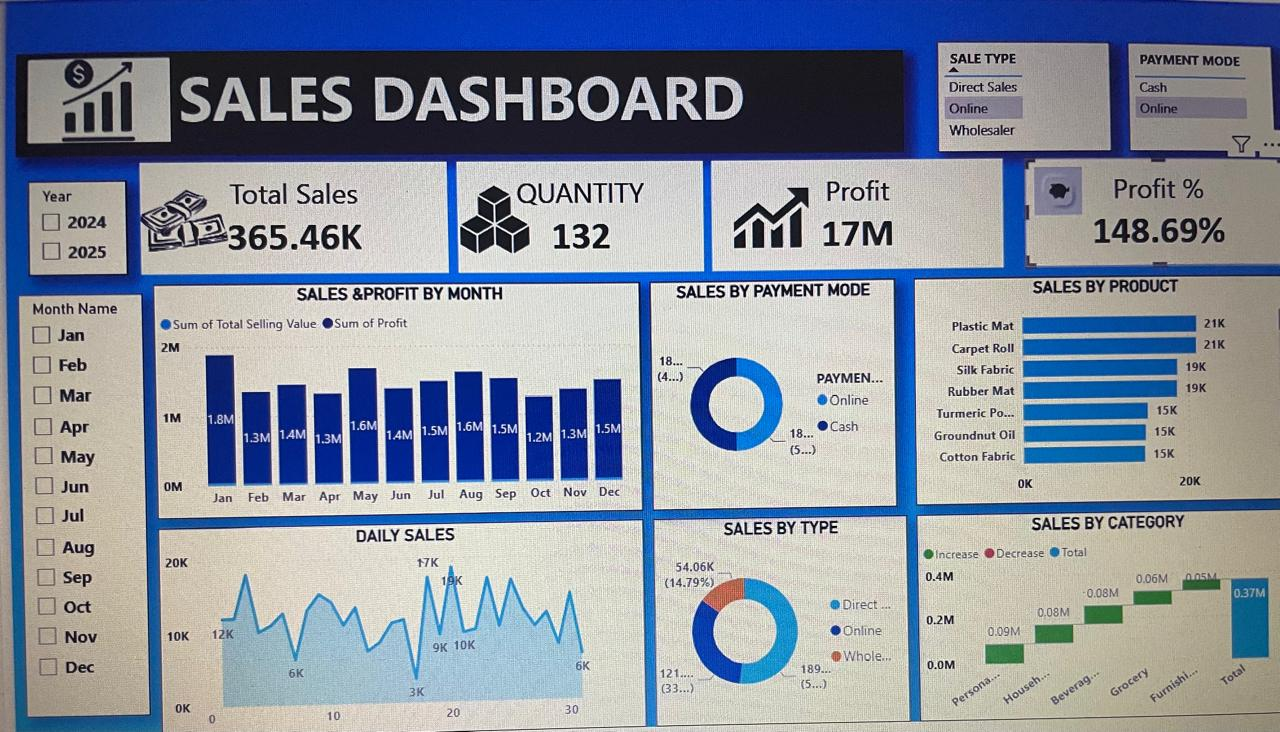

Layout of this report page (visuals, bound fields, positions):
{"tool":"powerbi","page":{"name":"Page 1","canvas":[1280,720],"ordinal":0},"visuals":[{"type":"textbox","box":[9.6,53.5,864.5,100.2],"z":0},{"type":"image","box":[22,59,137.2,81],"z":1000},{"type":"slicer","fields":{"Values":["InputData.Year"]},"box":[22,177,94.7,90.6],"z":2000},{"type":"slicer","fields":{"Values":["InputData.Month Name"]},"box":[11,285.4,118,408.9],"z":3000},{"type":"tableEx","fields":{"Values":["InputData.SALE TYPE"]},"box":[908.4,44.6,174.9,108.6],"z":4000},{"type":"tableEx","fields":{"Values":["InputData.PAYMENT MODE"]},"box":[1101.5,44.6,153.2,108.6],"z":5000},{"type":"cardVisual","fields":{"Data":["Sum(InputData.Total Selling Value)"]},"box":[129.1,160.5,294.4,107.4],"z":6000},{"type":"cardVisual","fields":{"Data":["Sum(InputData.QUANTITY)"]},"box":[433.1,160.5,241.3,107.4],"z":7000},{"type":"cardVisual","fields":{"Data":["Sum(InputData.Profit %)"]},"box":[995.3,160.5,271.4,107.4],"z":8000},{"type":"cardVisual","fields":{"Data":["Sum(InputData.Profit)"]},"box":[682.8,160.5,290.8,107.4],"z":9000},{"type":"image","box":[423.5,177.3,91.7,78.4],"z":11000},{"type":"columnChart","title":"SALES &PROFIT BY MONTH","fields":{"Category":["InputData.Month Name"],"Y":["Sum(InputData.Total Selling Value)","Sum(InputData.Profit)"]},"box":[140,277.2,470.7,226.4],"z":13000},{"type":"areaChart","title":"DAILY SALES ","fields":{"Category":["InputData.Day"],"Y":["Sum(InputData.Total Selling Value)"]},"box":[140,513.2,470.7,207.2],"z":14000},{"type":"clusteredBarChart","title":"SALES BY PRODUCT","fields":{"Category":["InputData.MasterData.PRODUCT"],"Y":["Sum(InputData.Total Selling Value)"]},"box":[883.1,277.5,383.6,225.6],"z":15000},{"type":"waterfallChart","title":"SALES BY CATEGORY","fields":{"Category":["InputData.MasterData.CATEGORY"],"Y":["Sum(InputData.Total Selling Value)"]},"box":[883.7,513.2,382.8,207.2],"z":15001},{"type":"donutChart","title":"SALES BY TYPE","fields":{"Y":["Sum(InputData.Total Selling Value)"],"Category":["InputData.SALE TYPE"]},"box":[620.2,513.2,253.9,207.2],"z":15002},{"type":"donutChart","title":"SALES BY PAYMENT MODE","fields":{"Category":["InputData.PAYMENT MODE"],"Y":["Sum(InputData.Total Selling Value)"]},"box":[620.2,277.2,244.3,226.4],"z":15003},{"type":"image","box":[129.1,177.3,83.2,78.4],"z":15004},{"type":"image","box":[704.6,177.3,74.8,78.4],"z":15005},{"type":"image","box":[983.2,168.9,91.7,48.3],"z":15006}]}

Visuals, with their boxes in screenshot pixels (x1, y1, x2, y2), scaled from the page's 1280x720 canvas onto the 1280x732 screenshot:
textbox: region(10, 54, 874, 156)
image: region(22, 60, 159, 142)
slicer - InputData.Year: region(22, 180, 117, 272)
slicer - InputData.Month Name: region(11, 290, 129, 706)
tableEx - InputData.SALE TYPE: region(908, 45, 1083, 156)
tableEx - InputData.PAYMENT MODE: region(1102, 45, 1255, 156)
cardVisual - Sum(InputData.Total Selling Value): region(129, 163, 424, 272)
cardVisual - Sum(InputData.QUANTITY): region(433, 163, 674, 272)
cardVisual - Sum(InputData.Profit %): region(995, 163, 1267, 272)
cardVisual - Sum(InputData.Profit): region(683, 163, 974, 272)
image: region(424, 180, 515, 260)
"SALES &PROFIT BY MONTH" columnChart: region(140, 282, 611, 512)
"DAILY SALES " areaChart: region(140, 522, 611, 731)
"SALES BY PRODUCT" clusteredBarChart: region(883, 282, 1267, 511)
"SALES BY CATEGORY" waterfallChart: region(884, 522, 1266, 731)
"SALES BY TYPE" donutChart: region(620, 522, 874, 731)
"SALES BY PAYMENT MODE" donutChart: region(620, 282, 864, 512)
image: region(129, 180, 212, 260)
image: region(705, 180, 779, 260)
image: region(983, 172, 1075, 221)
